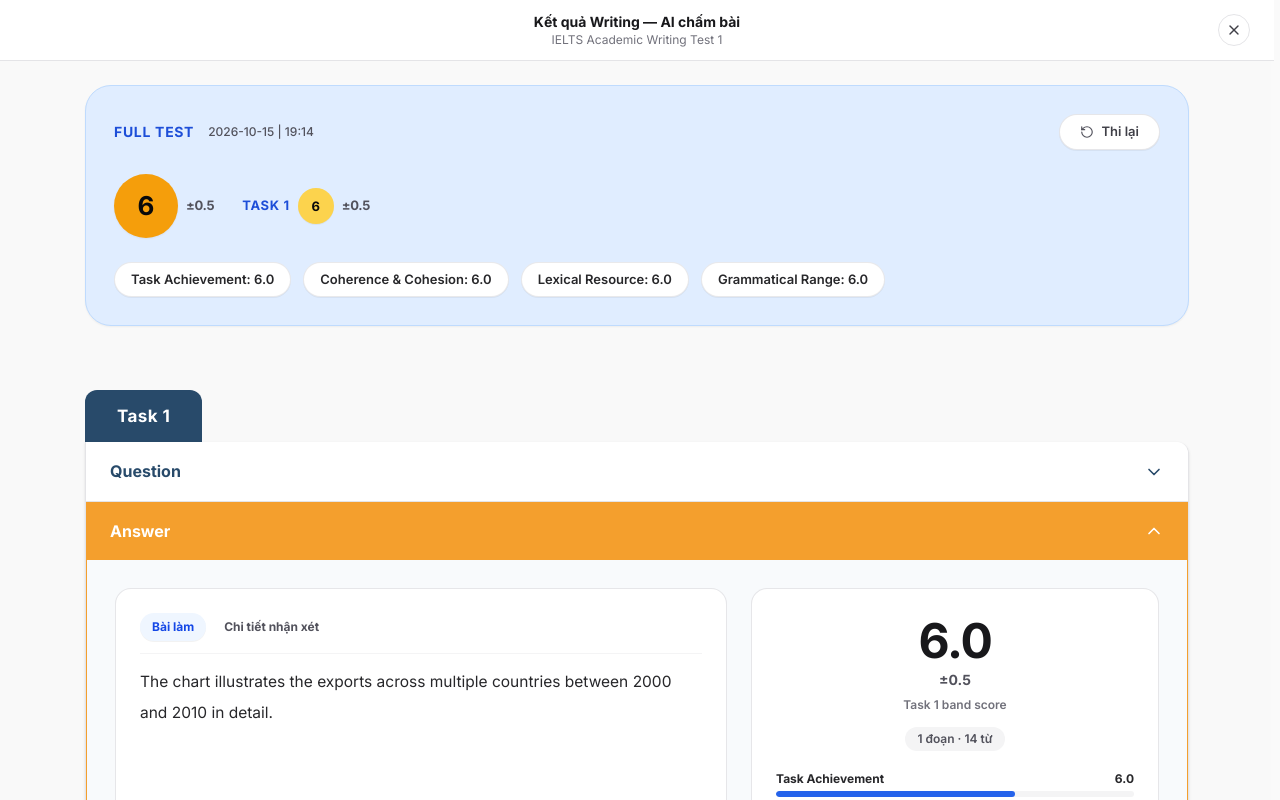
Test: WritingExam - KIỂM THỬ BẮT BUỘC: Ca 9 đến Ca 12 › Ca 9: bản ghi cũ (chỉ có comment, không có trường mới) hiển thị bình thường, không lỗi
This screenshot has width=1280, height=800.
Check: the text "Task 1 band score" is shown, box top-left (903, 697), bottom-right (1007, 712)
Note: Bấm tab "Chi tiết nhận xét" để xem chi tiết các tiêu chí bản ghi cũ
Click the button "Chi tiết nhận xét": (272, 627) top-left (212, 613), bottom-right (331, 641)
(page scrolled)
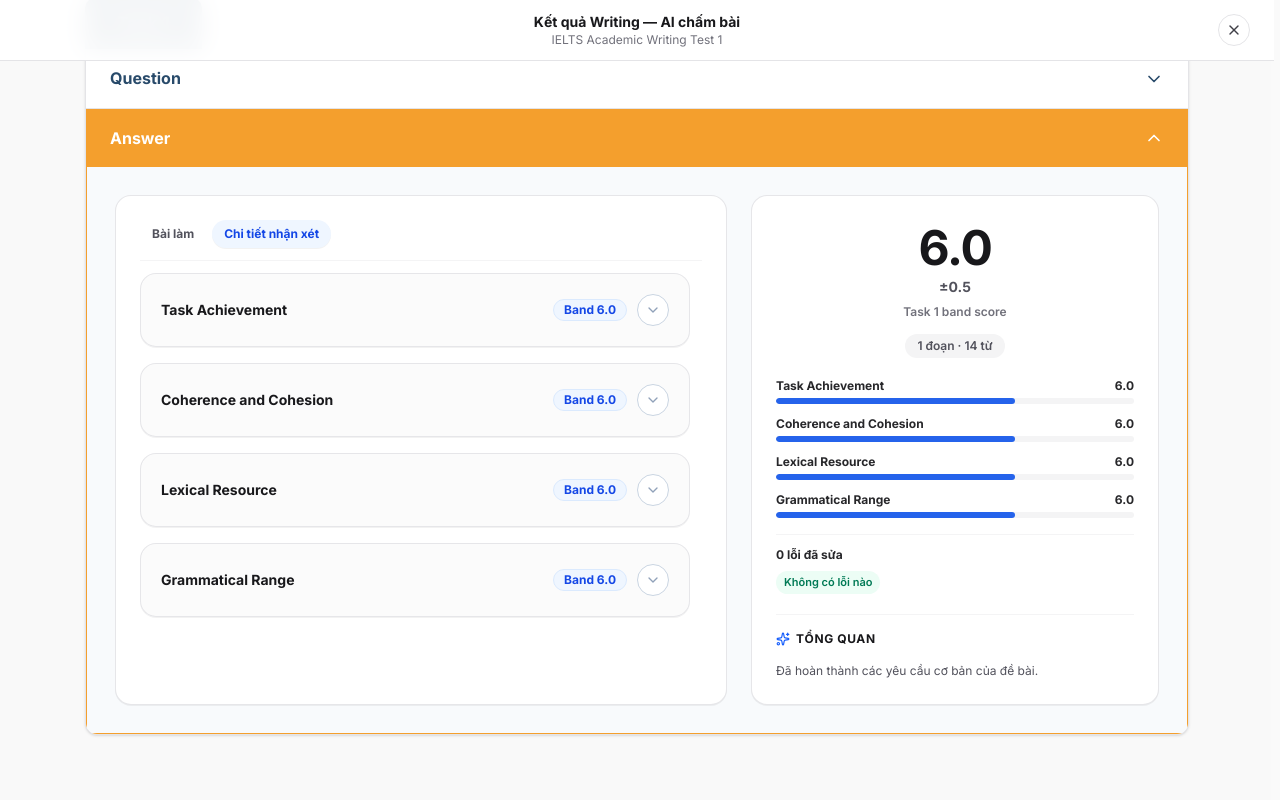
Check: the number of buttons named "Chi tiết nhận xét Task Achievement" is 4
Click the button named "Chi tiết nhận xét Coherence and Cohesion": (653, 400) top-left (637, 384), bottom-right (669, 416)
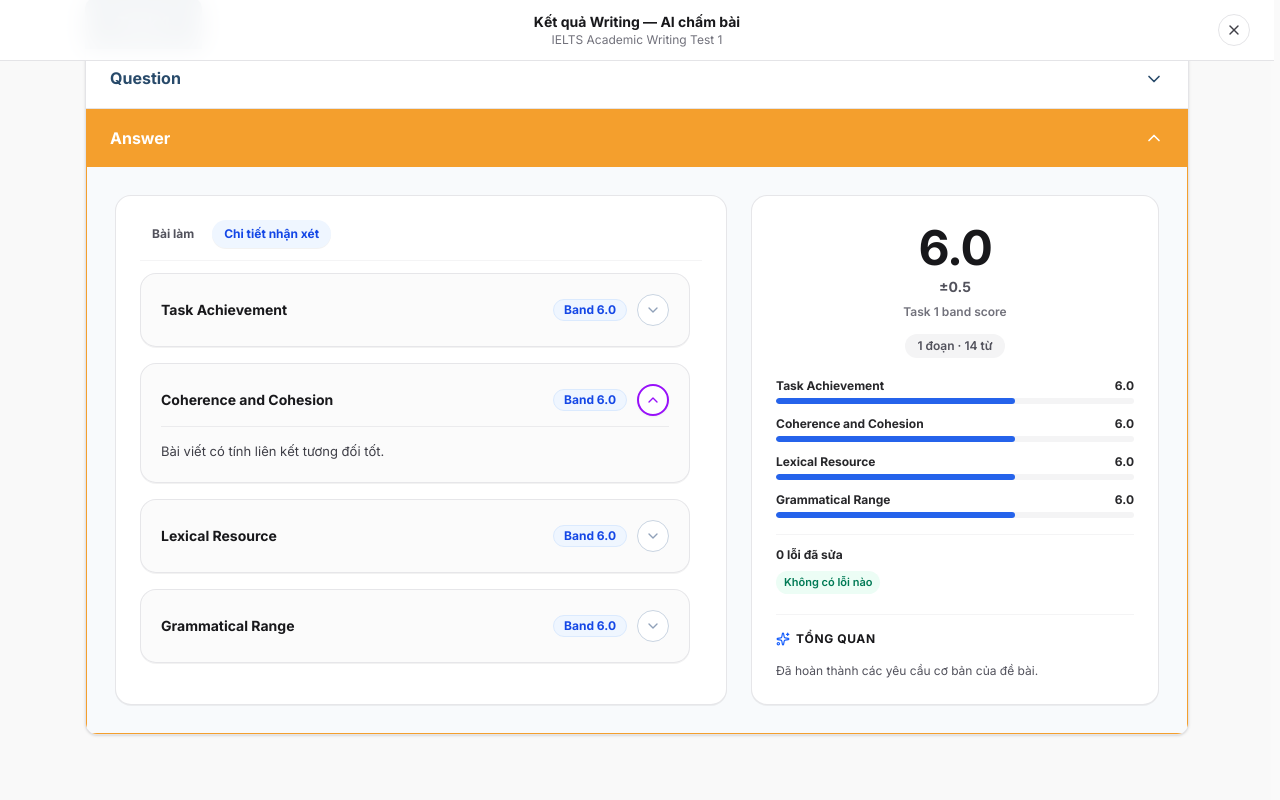
Check: the button named "Đóng" is shown, box top-left (1218, 14), bottom-right (1250, 46)
Check: the text "Bài viết có tính liên kết tương đối tốt." is shown, box top-left (161, 443), bottom-right (384, 459)
